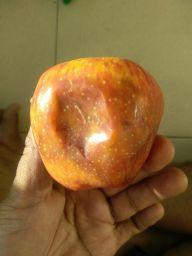Apple Rotten: (26, 45, 172, 198)
